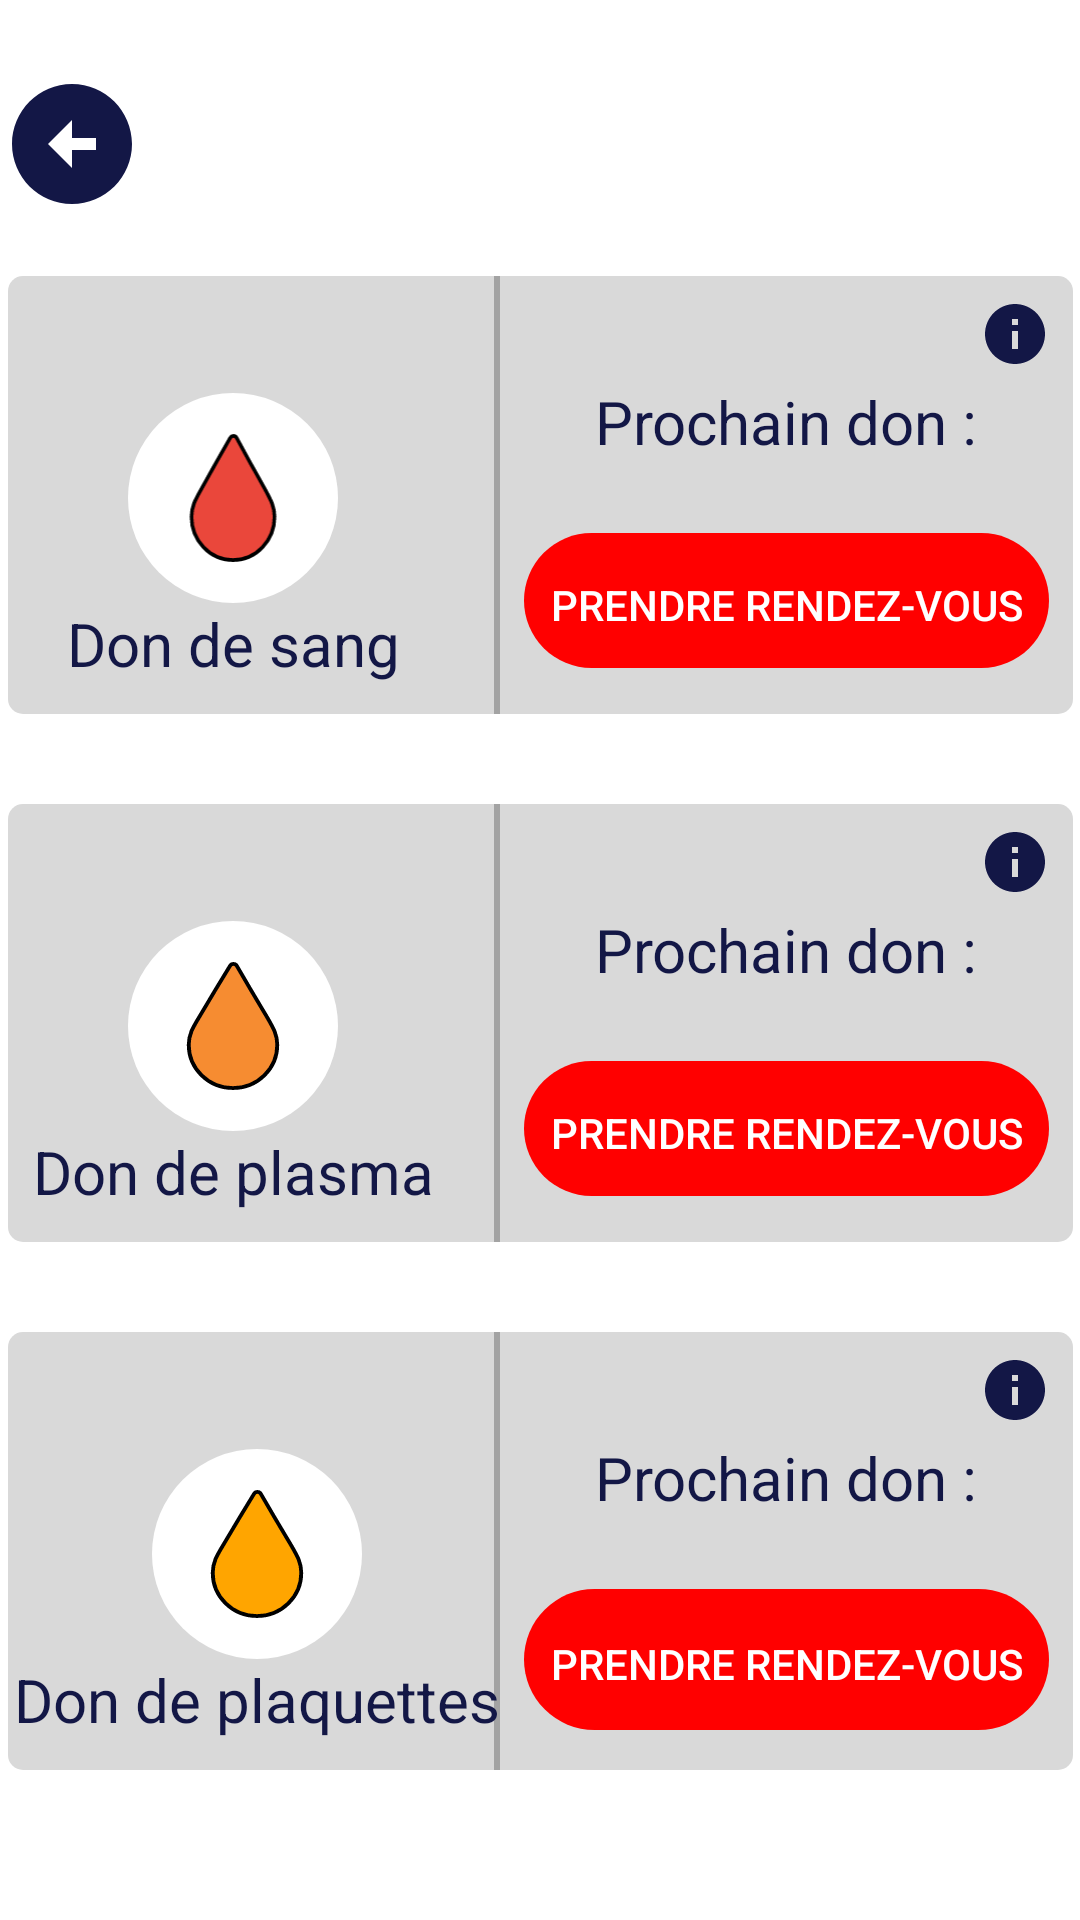

Locate icon controls on the screen. Image size 1080px×1920px, boxes as (x1, y1, x2, y2).
arrow circle left: (12, 84, 132, 204)
